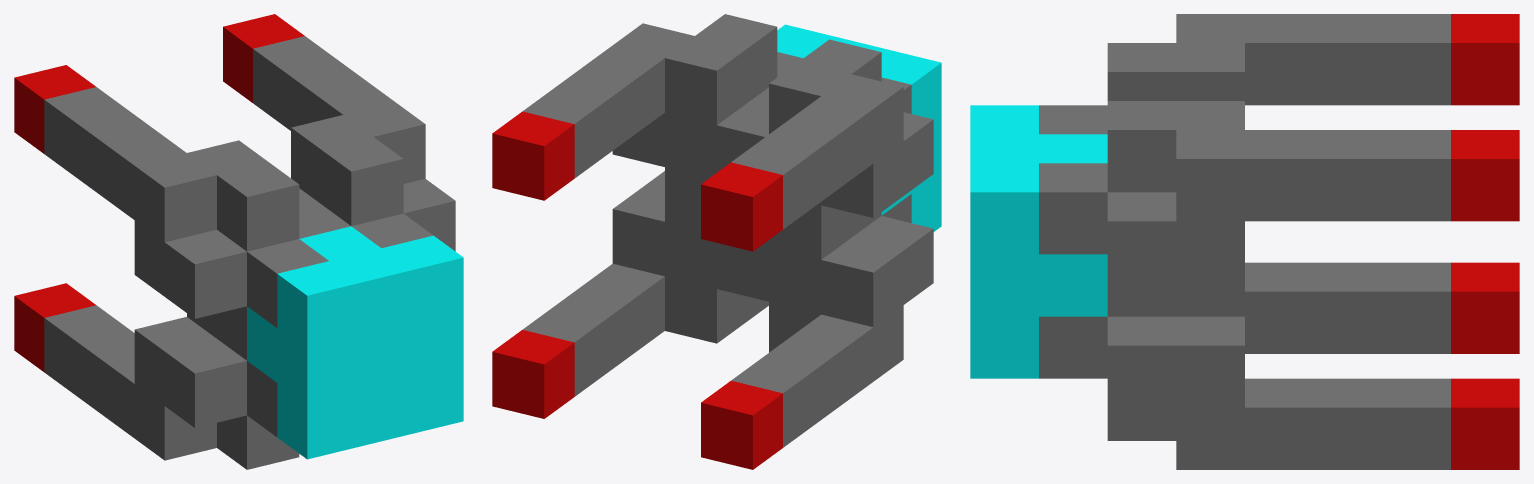
File: enemy1.glb
3 renders of one model, left to right at view 1: azimuth 30°, elevation 25°; view 2: azimuth 150°, elevation 25°; view 3: azimuth 270°, elevation 25°, orthographic. The views are drawn at different scales.
Parts seen in each view (by area): view 1: Untitled; view 2: Untitled; view 3: Untitled.
Part boxes in pixels (left/top/right/bottom): Untitled: left=14, top=14, right=463, bottom=469; Untitled: left=492, top=14, right=941, bottom=469; Untitled: left=970, top=14, right=1519, bottom=469.
Size of the model in its own units: 0.625 by 0.625 by 1.
Materials: 1 (1 with a texture image).
